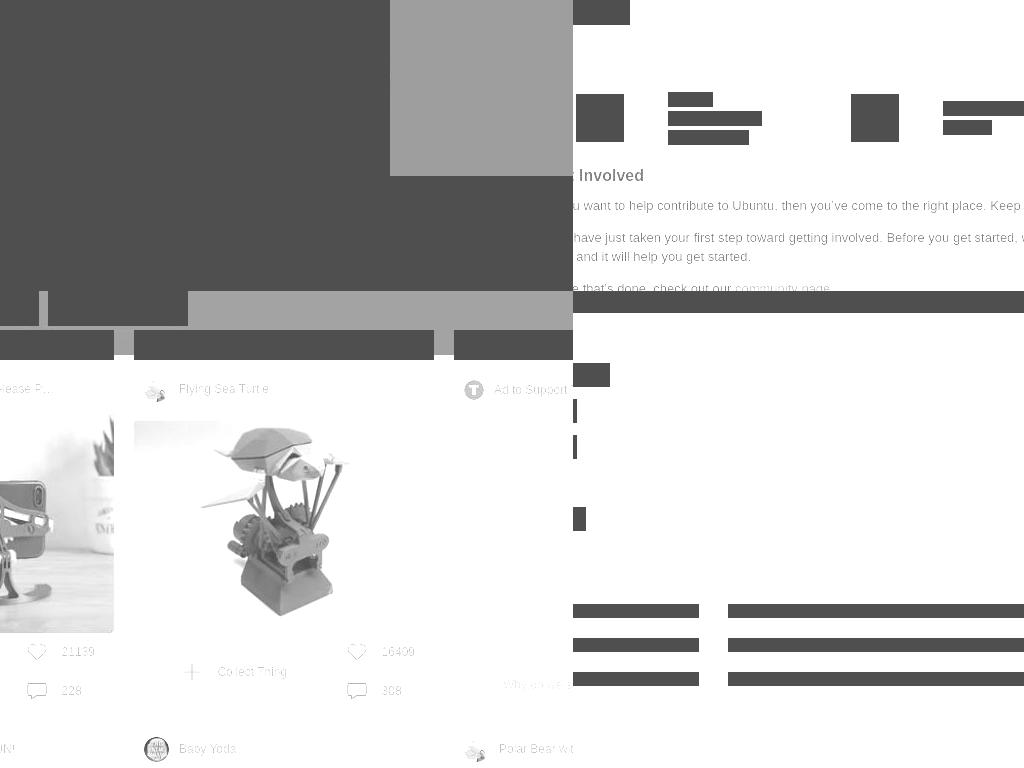button: (134, 408, 434, 633), (0, 408, 114, 633), (134, 330, 434, 360), (182, 633, 288, 710), (48, 291, 188, 326), (728, 604, 1024, 618), (728, 638, 1024, 652), (728, 672, 1024, 686), (454, 330, 573, 360), (0, 330, 114, 360), (573, 604, 699, 618), (573, 638, 699, 652), (573, 672, 699, 686), (26, 642, 95, 662), (346, 642, 415, 662), (26, 681, 82, 701), (346, 681, 402, 701), (144, 376, 169, 402), (144, 736, 169, 762), (464, 736, 489, 762)
heading: (0, 0, 390, 176), (0, 261, 573, 291), (573, 164, 1024, 188), (573, 291, 1024, 313), (573, 0, 630, 25)
iframe: (454, 410, 573, 660)
image: (134, 408, 434, 633), (0, 176, 573, 263), (0, 408, 114, 633), (576, 94, 624, 142), (851, 94, 899, 142), (144, 376, 169, 402), (144, 736, 169, 762), (464, 736, 489, 762), (182, 661, 203, 682), (26, 642, 47, 662), (26, 681, 47, 701), (346, 642, 367, 662), (346, 681, 367, 701), (469, 385, 479, 395)
link: (675, 111, 762, 126), (676, 130, 749, 145), (951, 101, 1024, 116), (734, 281, 830, 291), (573, 363, 610, 387), (951, 120, 992, 135), (676, 92, 713, 107)
text: (0, 36, 390, 133), (573, 230, 1024, 264), (573, 198, 1024, 213), (573, 230, 1024, 245), (144, 334, 406, 356), (217, 633, 288, 710), (48, 291, 178, 326), (179, 381, 379, 397), (179, 741, 379, 757), (464, 334, 573, 356), (0, 334, 86, 356), (494, 379, 573, 401), (573, 281, 735, 291), (499, 741, 573, 757), (503, 677, 573, 693), (0, 381, 59, 397), (0, 741, 59, 757), (61, 642, 95, 662), (381, 642, 415, 662), (61, 681, 82, 701), (381, 681, 402, 701), (668, 92, 676, 107), (668, 111, 676, 126), (668, 130, 676, 145), (943, 101, 951, 116), (943, 120, 951, 135), (830, 281, 835, 291)
